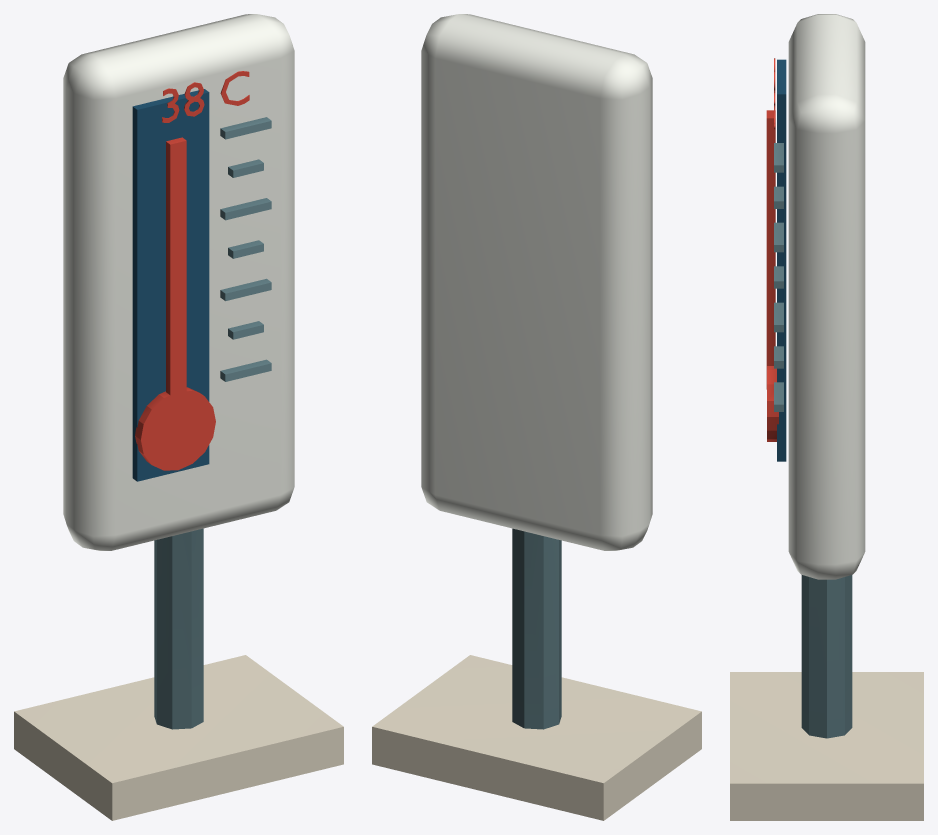
The model's file is thermometer.glb.
3 renders of one model, left to right at view 1: azimuth 30°, elevation 25°; view 2: azimuth 150°, elevation 25°; view 3: azimuth 270°, elevation 25°, orthographic.
Parts seen in each view (by area): view 1: weather monitor housing, temperature monitor base, thermometer recess, thermometer pedestal, red thermometer bulb; view 2: weather monitor housing, temperature monitor base, thermometer pedestal; view 3: weather monitor housing, temperature monitor base, thermometer pedestal, red thermometer bulb, thermometer recess.
Boxes of the visible parts, x1=… form: weather monitor housing: x1=63, y1=14, x2=294, y2=550; temperature monitor base: x1=14, y1=655, x2=343, y2=820; thermometer recess: x1=132, y1=89, x2=209, y2=481; thermometer pedestal: x1=154, y1=117, x2=271, y2=729; red thermometer bulb: x1=135, y1=71, x2=249, y2=470; weather monitor housing: x1=421, y1=14, x2=652, y2=550; temperature monitor base: x1=372, y1=655, x2=701, y2=820; thermometer pedestal: x1=512, y1=528, x2=561, y2=729; weather monitor housing: x1=788, y1=14, x2=865, y2=579; temperature monitor base: x1=730, y1=672, x2=923, y2=820; thermometer pedestal: x1=774, y1=143, x2=852, y2=738; red thermometer bulb: x1=766, y1=58, x2=778, y2=441; thermometer recess: x1=777, y1=59, x2=786, y2=461.
Size of the model in its own units: 0.45 by 1.34 by 0.33.
